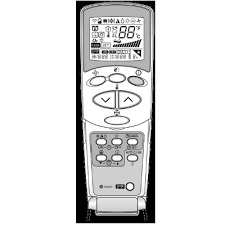remote control: (77, 2, 155, 222)
